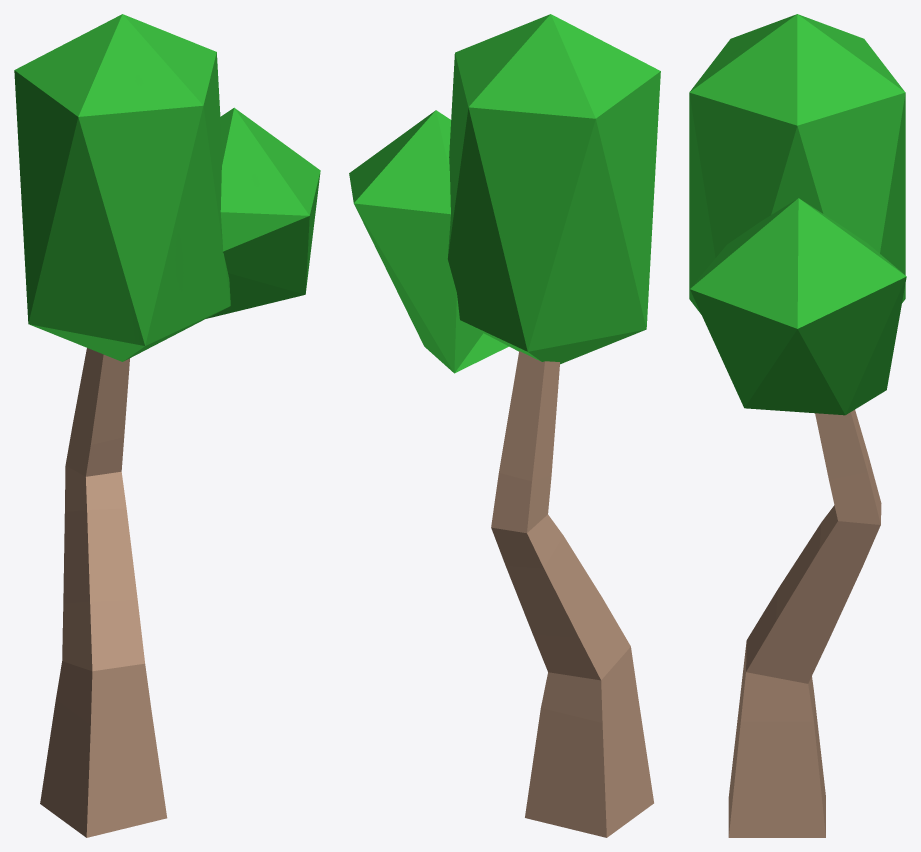
Rendered from Small_Tree.fbx.
3 views of the same model, side by side, from view 1: azimuth 30°, elevation 25°; view 2: azimuth 150°, elevation 25°; view 3: azimuth 270°, elevation 25° (orthographic). The views are drawn at different scales.
Visible parts, largest first — view 1: Small_Tree; view 2: Small_Tree; view 3: Small_Tree.
Part boxes in pixels (x1,y1,x2,y2): Small_Tree: [14, 14, 320, 837]; Small_Tree: [349, 14, 660, 837]; Small_Tree: [689, 14, 906, 837].
Size of the model in its own units: 18.88 by 48.31 by 11.64.
